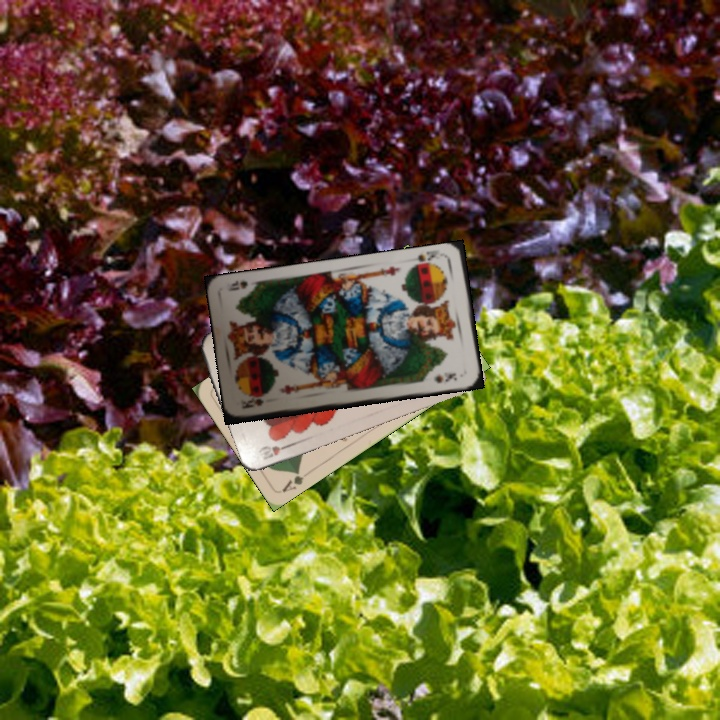GA: (277, 466, 314, 495)
H10: (258, 439, 294, 462)
SK: (408, 248, 448, 270), (238, 394, 266, 411)
